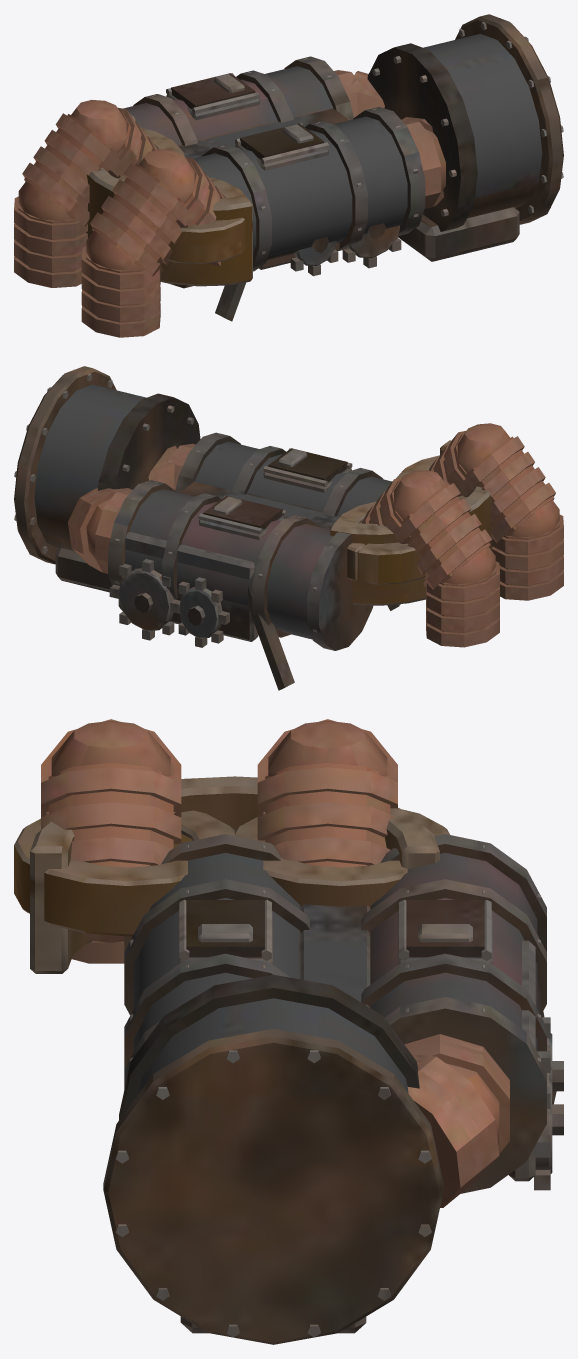
File: offshore-pump-west.glb
3 renders of one model, top to bottom at view 1: azimuth 30°, elevation 25°; view 2: azimuth 150°, elevation 25°; view 3: azimuth 270°, elevation 25°, orthographic. The views are drawn at different scales.
Parts seen in each view (by area): view 1: body; view 2: body; view 3: body, anim_bob_a, anim_bob_b.
Part boxes in pixels (left/top/right/bottom): body: left=14, top=14, right=563, bottom=337; body: left=14, top=366, right=563, bottom=690; body: left=14, top=719, right=563, bottom=1344; anim_bob_a: left=198, top=924, right=252, bottom=942; anim_bob_b: left=418, top=924, right=472, bottom=942.
Size of the model in its own units: 2.27 by 0.91 by 1.42.
1 material, 1 textured.
